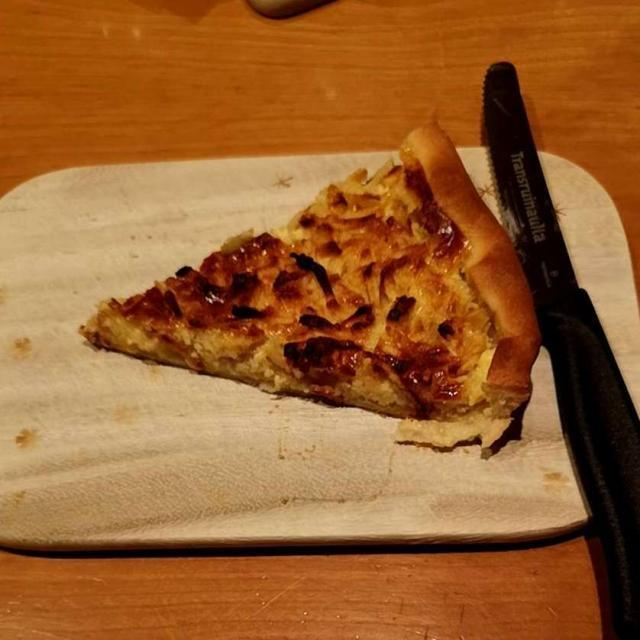apple-pie: (100, 123, 533, 430)
